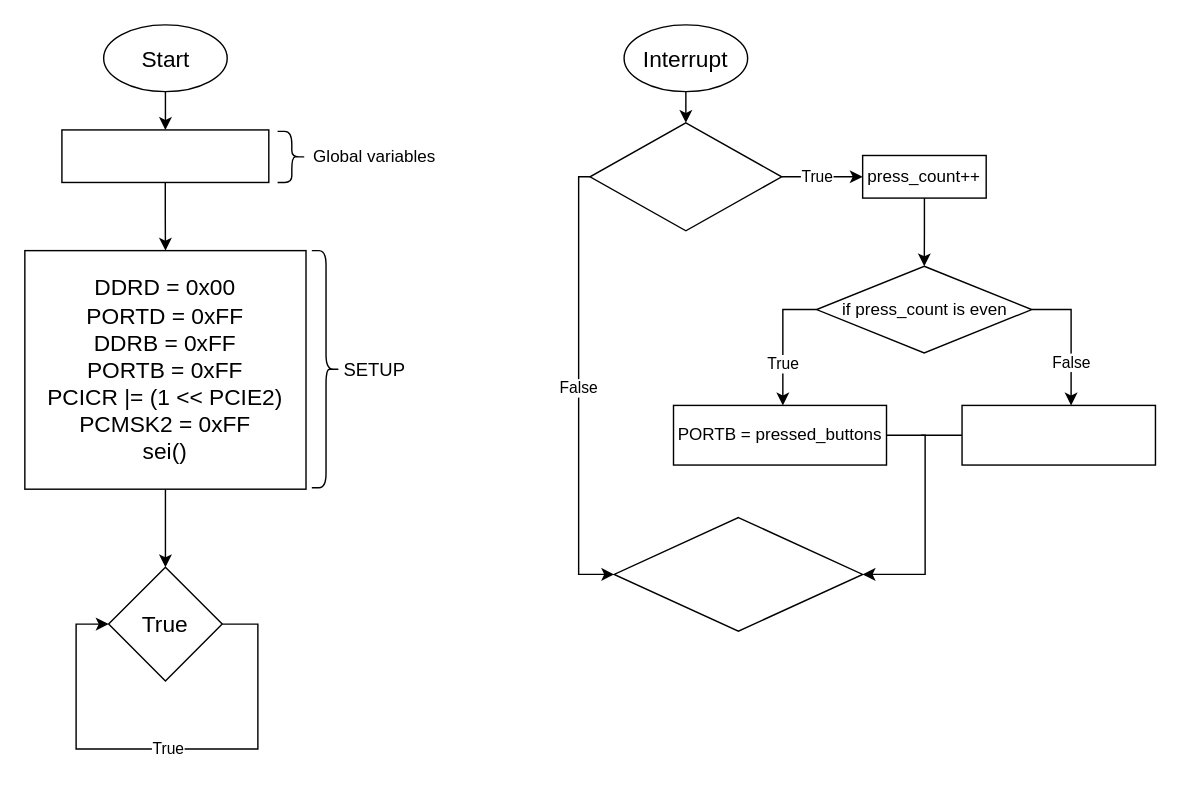
Some shapes in this 1181 by 785 pixel diagram are drawn without their labels. Here are the shapes that lost their labels. From the top down, the centre of each, then its label:
At (x=164, y=155): "pressed_buttons = 0xFF press_count = 0;".
At (x=685, y=176): "if ISPRESSED(PD0)".
At (x=1058, y=434): "pressed_buttons = 0xFF PORTB = 0xFF".
At (x=738, y=573): "(PIND & 0xFE) != 0xFE".
